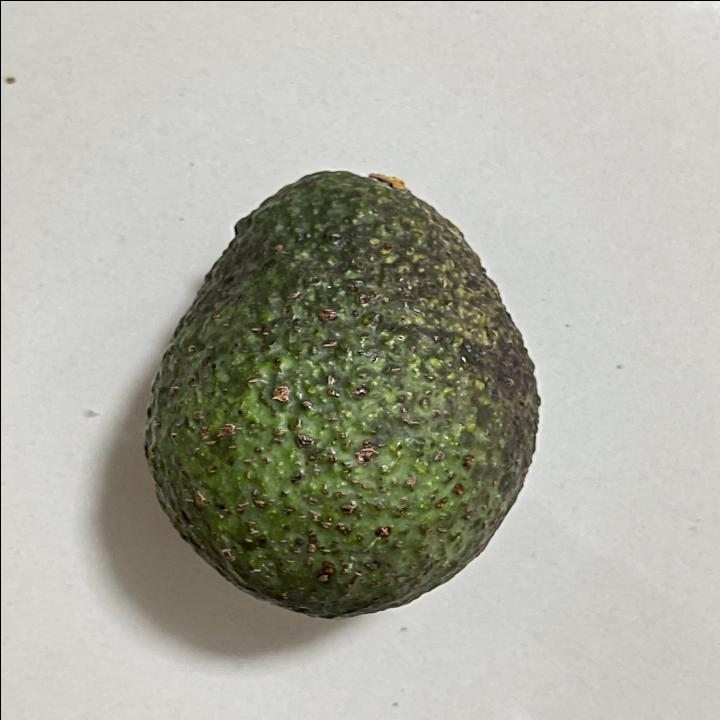Level1: (133, 158, 550, 624)
